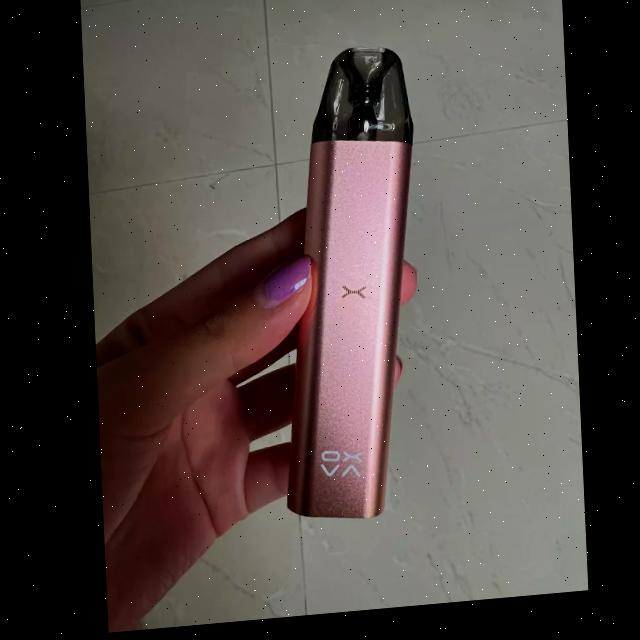vape: (264, 49, 426, 533)
